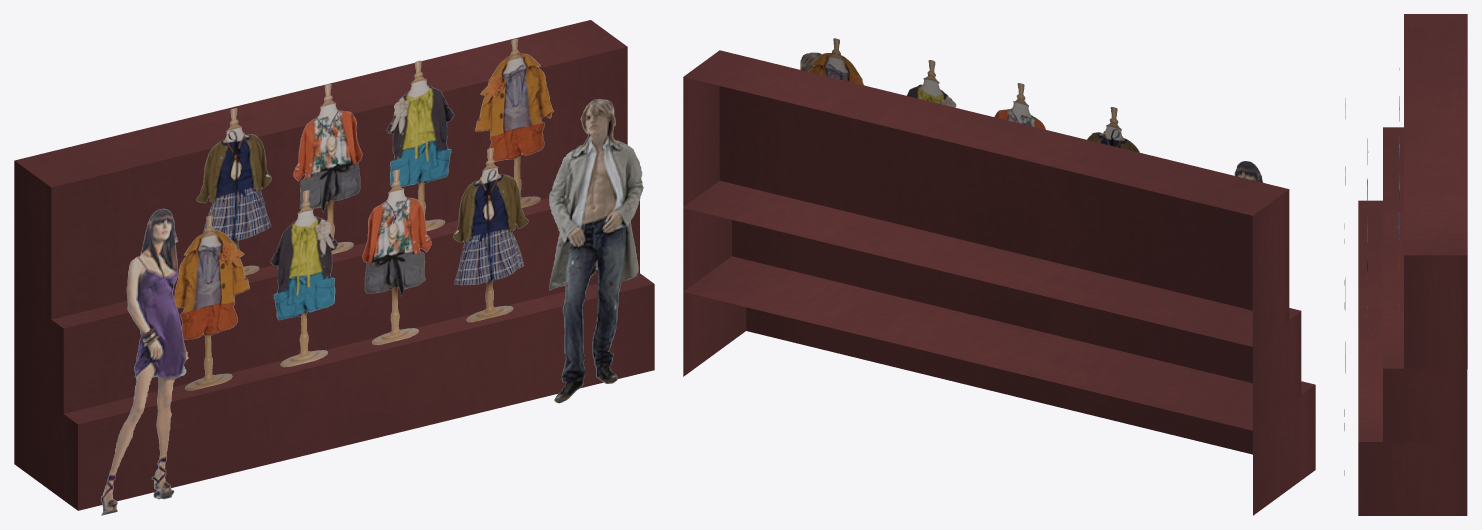
3 views of the same model, side by side, from view 1: azimuth 30°, elevation 25°; view 2: azimuth 150°, elevation 25°; view 3: azimuth 270°, elevation 25° (orthographic). The views are drawn at different scales.
Visible parts, largest first — view 1: sd_04; view 2: sd_04; view 3: sd_04.
Part boxes in pixels (<box>): sd_04: <box>14,20,654,515</box>; sd_04: <box>683,38,1315,515</box>; sd_04: <box>1344,14,1467,515</box>.
Bounding box in the file's own units: 18.57 × 4 × 11.02.
Materials: 1 (1 with a texture image).
